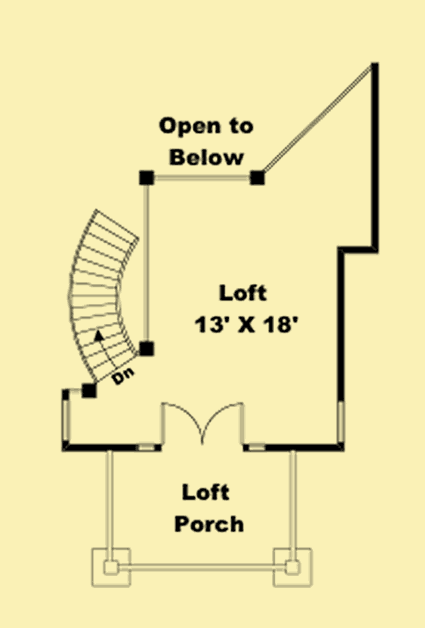door: (160, 399, 249, 447)
stairs: (64, 209, 143, 386)
